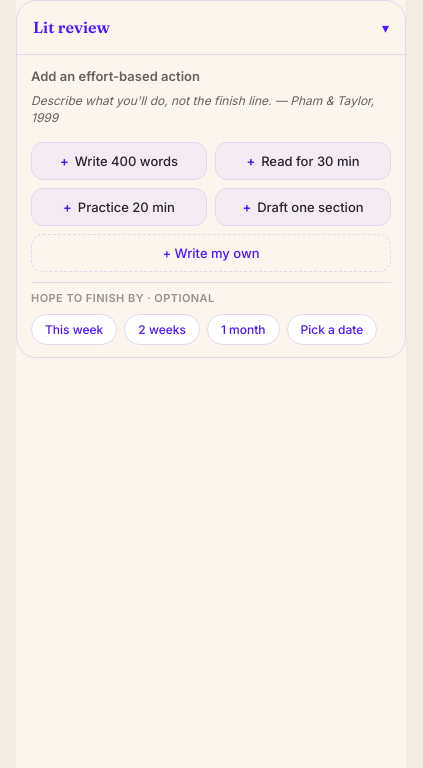
Test: "Pick a date" reveals a native date input
Step 1. Click the button "Pick a date" → [332, 330], box 286,314 -> 377,345
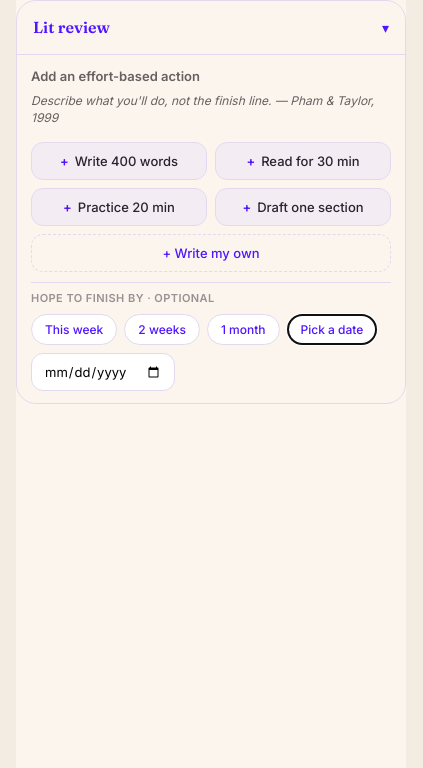
Expected: the date field named "Pick a target date" is shown, 31,353 -> 175,391
